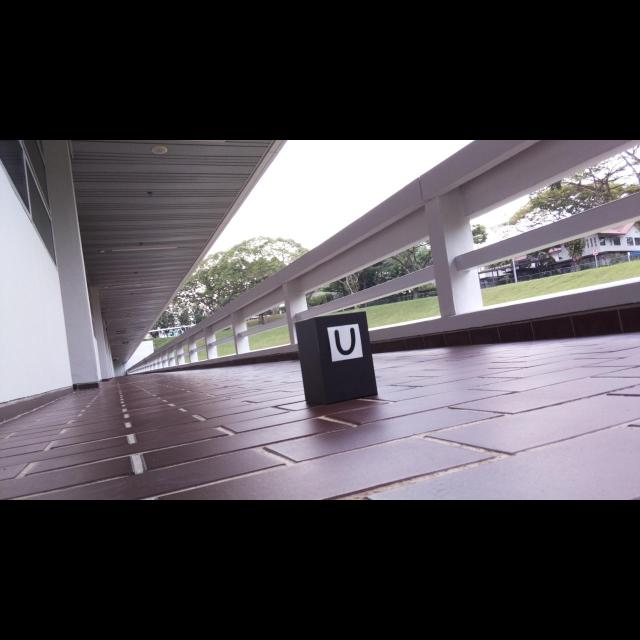U: (334, 328, 355, 355)
